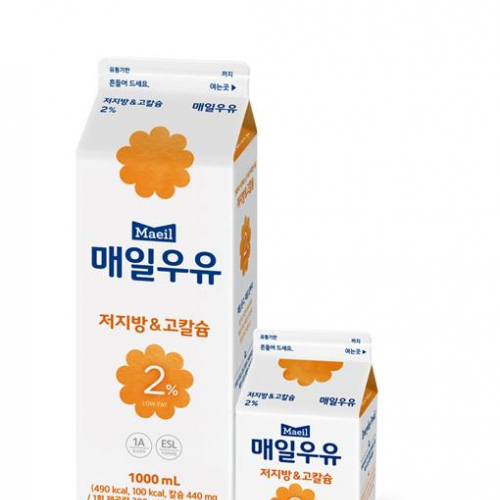milk: (74, 56, 259, 500), (237, 329, 378, 500)
